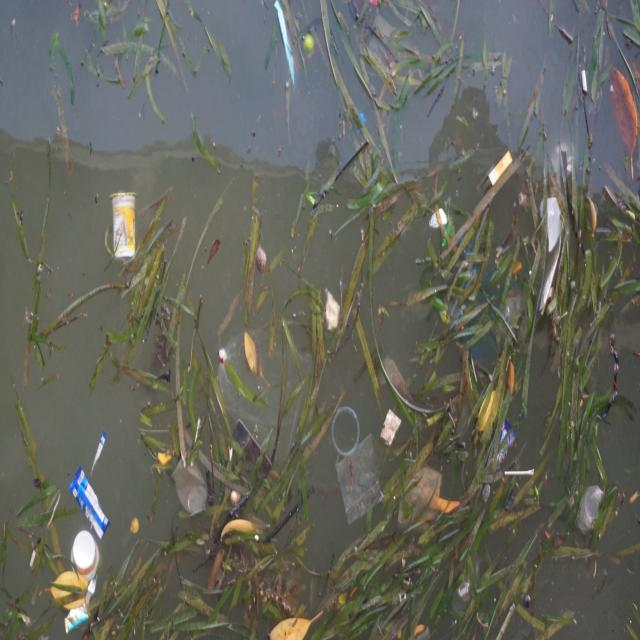Bungkus Makanan: (69, 457, 120, 540), (494, 417, 518, 474)
Bungkus Minuman: (110, 187, 143, 266)
Kantong Plastik: (214, 326, 302, 457), (337, 437, 387, 525), (572, 478, 606, 553)
